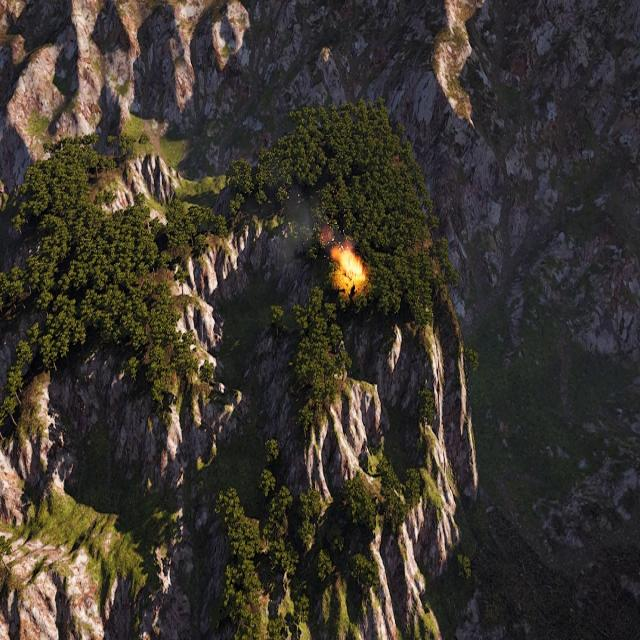fire: (335, 245, 365, 286)
